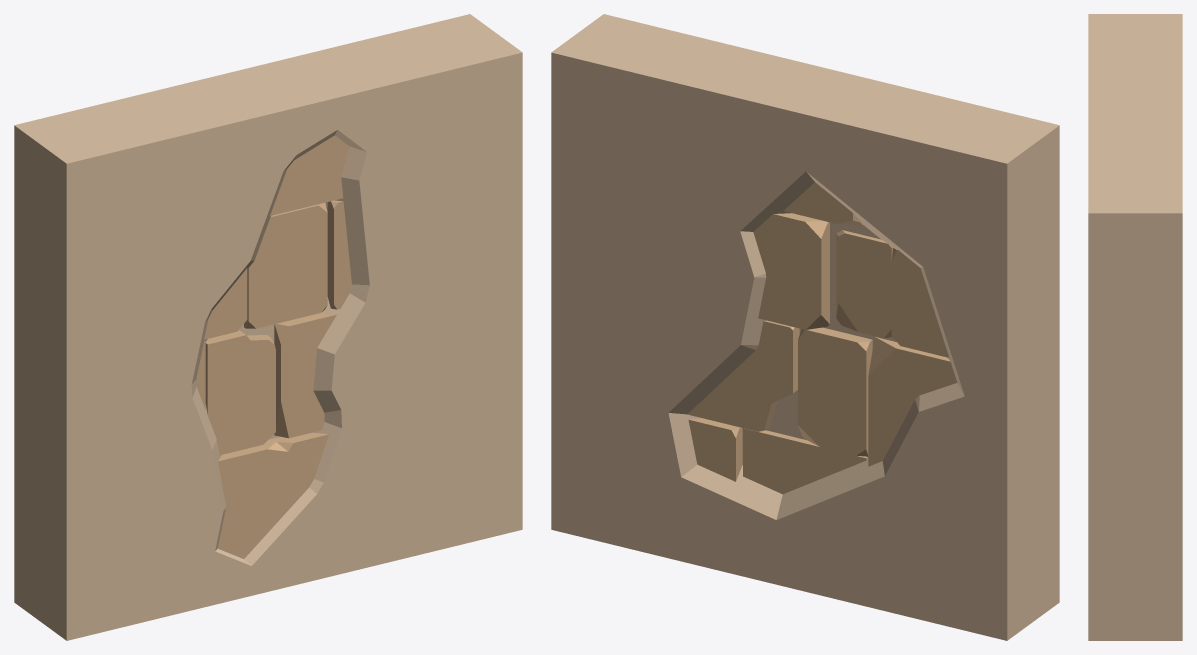
The model's file is Wall_Ruined_Full_1.fbx.
3 renders of one model, left to right at view 1: azimuth 30°, elevation 25°; view 2: azimuth 150°, elevation 25°; view 3: azimuth 270°, elevation 25°, orthographic. The views are drawn at different scales.
Visible parts, largest first — view 1: object13, object5, object9, object8, object11, object6, object3, object10; view 2: object13, object8, object9, object11, object7, object10, object5, object4, object2, object6; view 3: object13.
Part boxes in pixels (x1,y1,x2,y2): object13: (14, 14, 522, 640); object5: (217, 432, 328, 558); object9: (244, 202, 327, 328); object8: (205, 330, 275, 455); object11: (274, 313, 336, 438); object6: (270, 135, 349, 215); object3: (327, 200, 351, 309); object10: (204, 268, 247, 339); object13: (551, 14, 1059, 640); object8: (798, 327, 872, 456); object9: (753, 213, 829, 329); object11: (687, 320, 799, 431); object7: (868, 337, 957, 466); object10: (836, 230, 892, 338); object5: (743, 428, 867, 494); object4: (891, 247, 949, 357); object2: (688, 418, 742, 481); object6: (783, 182, 863, 225); object13: (1088, 14, 1182, 640).
Bounding box in the file's own units: 1 × 1 × 0.2.
